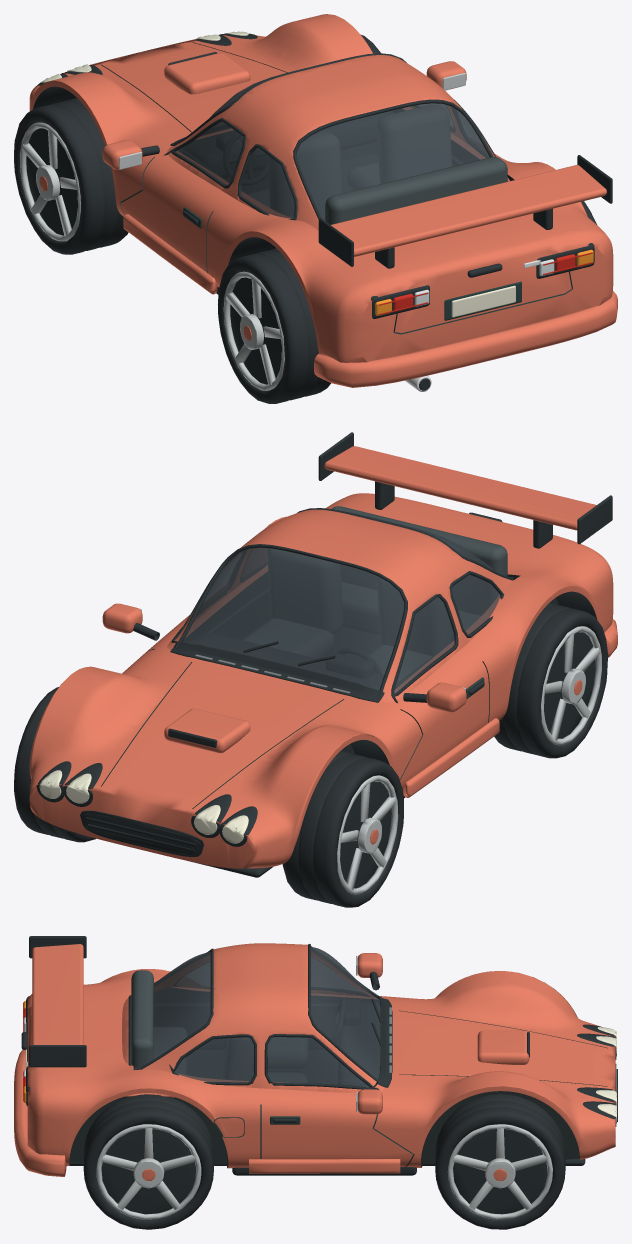
Rendered from taiyo_lod1.fbx.
3 renders of one model, top to bottom at view 1: azimuth 30°, elevation 25°; view 2: azimuth 150°, elevation 25°; view 3: azimuth 270°, elevation 25°, orthographic. The views are drawn at different scales.
Parts seen in each view (by area): view 1: Body, Wheel_FL_Mesh, Wheel_RL_Mesh; view 2: Body, Wheel_FL_Mesh, Wheel_RL_Mesh, Wheel_FR_Mesh; view 3: Body, Wheel_FR_Mesh, Wheel_RR_Mesh.
Boxes of the visible parts, bbox=[...] form: Body: bbox=[29, 14, 617, 391]; Wheel_FL_Mesh: bbox=[14, 98, 128, 254]; Wheel_RL_Mesh: bbox=[218, 248, 330, 403]; Body: bbox=[29, 432, 617, 877]; Wheel_FL_Mesh: bbox=[282, 751, 403, 907]; Wheel_RL_Mesh: bbox=[494, 603, 607, 758]; Wheel_FR_Mesh: bbox=[14, 687, 95, 842]; Body: bbox=[14, 936, 617, 1176]; Wheel_FR_Mesh: bbox=[435, 1094, 565, 1229]; Wheel_RR_Mesh: bbox=[83, 1094, 213, 1229].
Size of the model in its own units: 233 by 144 by 399.
